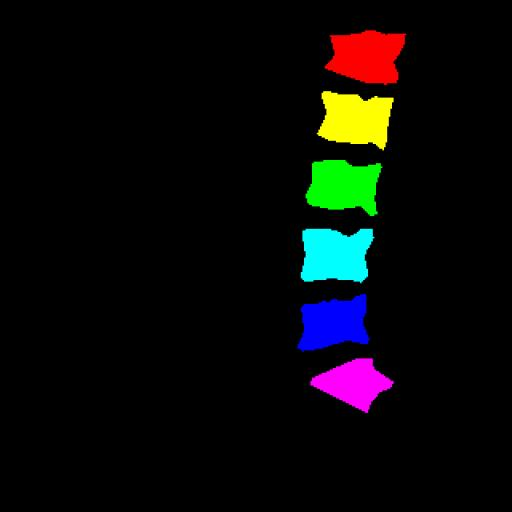L1: (326, 30, 406, 84)
L2: (316, 90, 392, 150)
L3: (306, 160, 382, 216)
L4: (301, 229, 373, 282)
L5: (298, 294, 369, 351)
S1: (310, 358, 393, 412)
